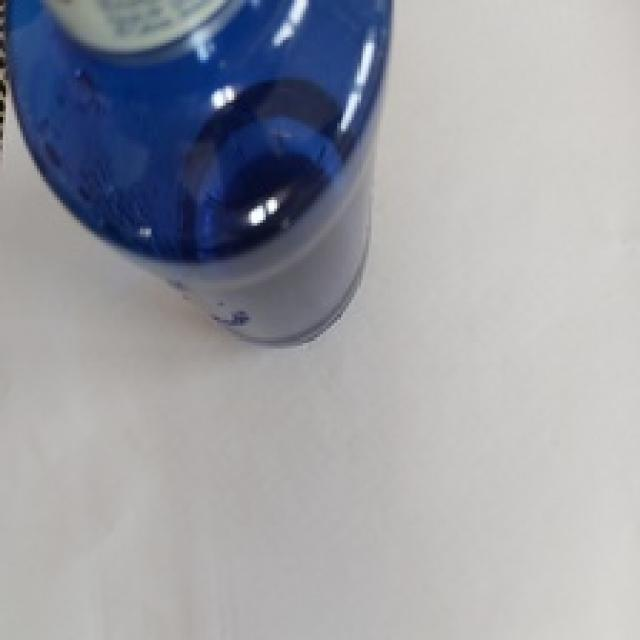Plastic: (0, 0, 392, 347)
